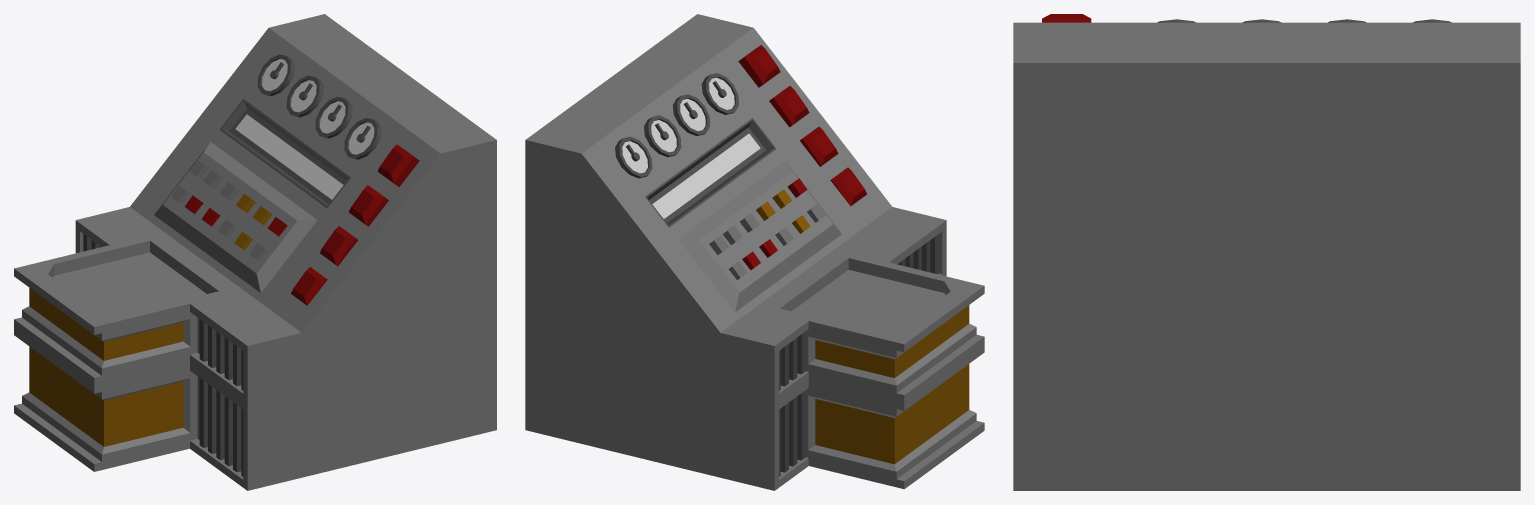
File: SM_PC_Deco_01 (1).fbx
3 renders of one model, left to right at view 1: azimuth 30°, elevation 25°; view 2: azimuth 150°, elevation 25°; view 3: azimuth 270°, elevation 25°, orthographic. The views are drawn at different scales.
Parts seen in each view (by area): view 1: SM_PC_Deco_01; view 2: SM_PC_Deco_01; view 3: SM_PC_Deco_01.
Boxes of the visible parts, x1=… form: SM_PC_Deco_01: x1=14, y1=14, x2=496, y2=490; SM_PC_Deco_01: x1=525, y1=14, x2=984, y2=490; SM_PC_Deco_01: x1=1013, y1=14, x2=1520, y2=490.
Bounding box in the file's own units: 199 × 160 × 172.
